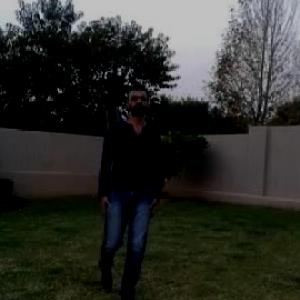follow: (96, 75, 164, 299)
